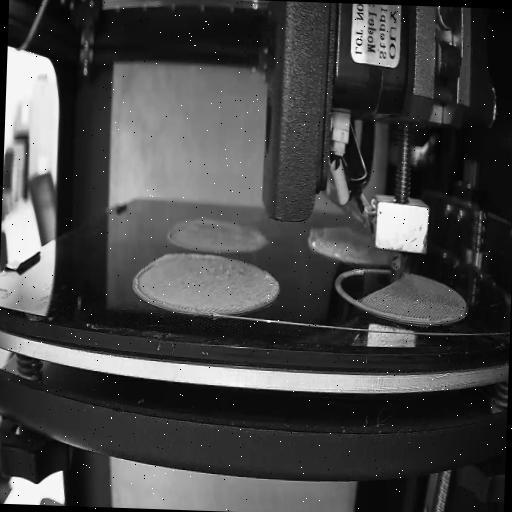over_extrusion: (130, 256, 153, 306)
